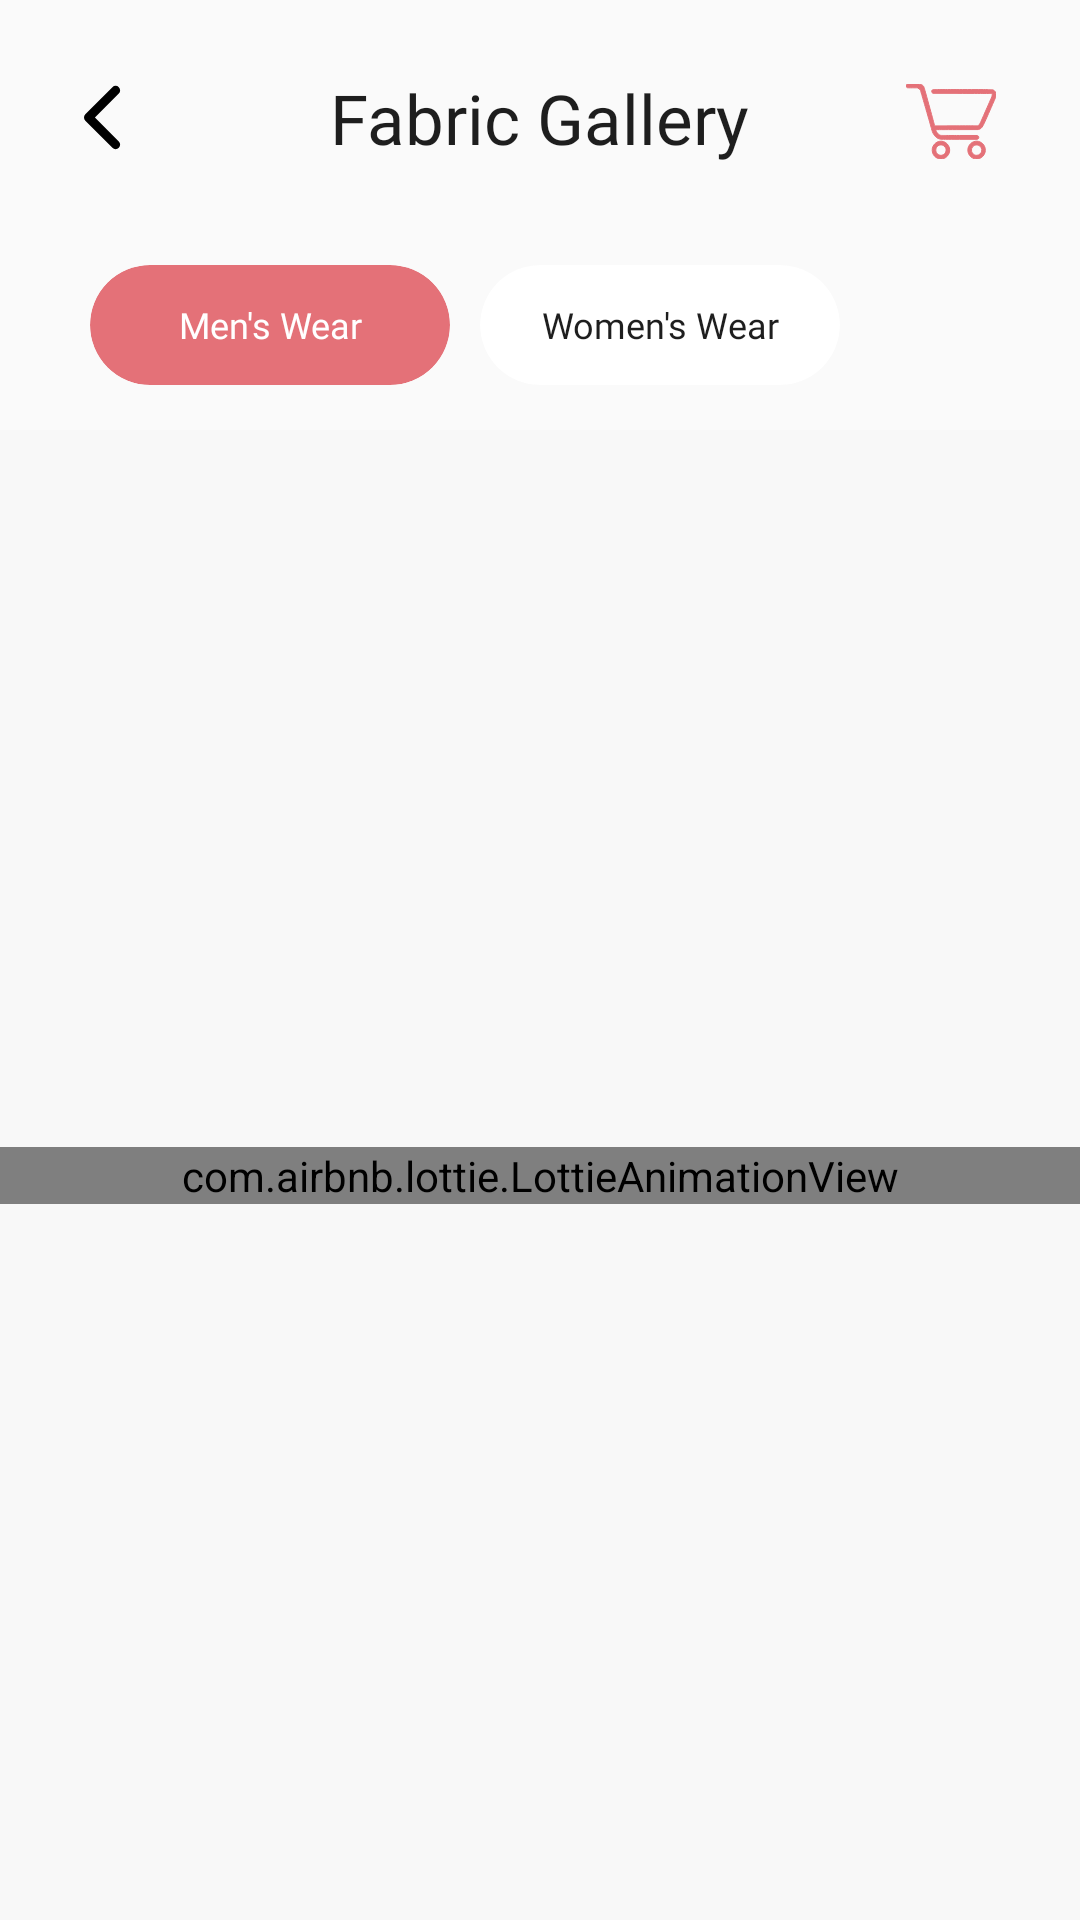

Locate icon controls on the screen. Image size 1080 × 1920, boxes as (x1, y1, x2, y2).
back: (84, 85, 120, 150)
shopping cart: (906, 84, 996, 159)
